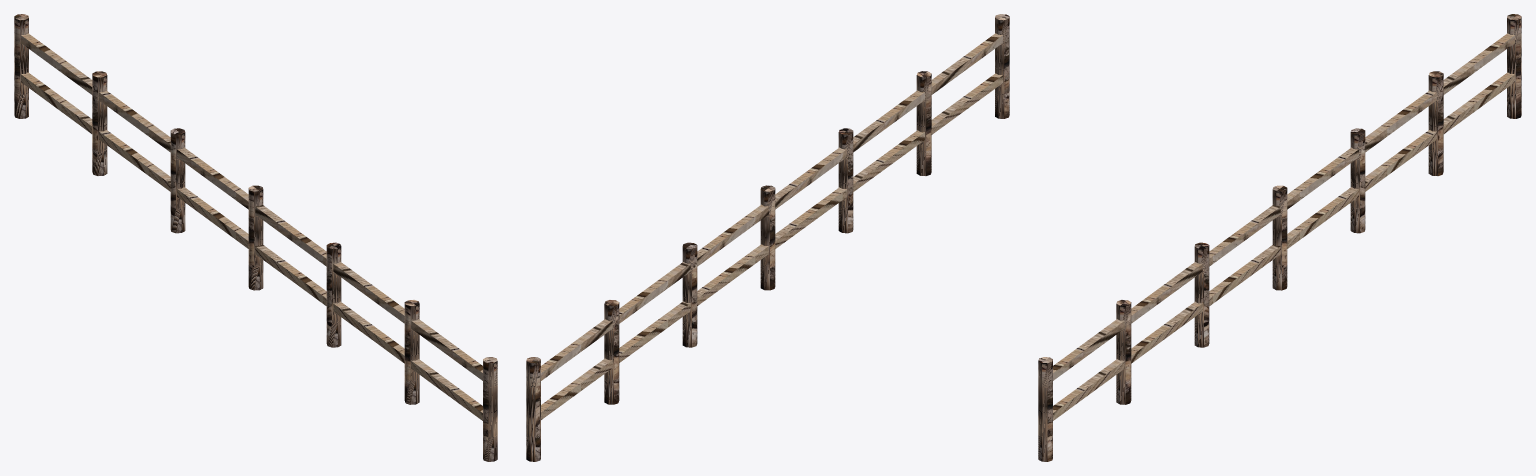
Rendered from valla.glb.
3 views of the same model, side by side, from view 1: azimuth 30°, elevation 25°; view 2: azimuth 150°, elevation 25°; view 3: azimuth 330°, elevation 25° (orthographic).
Visible parts, largest first — view 1: pieza; view 2: pieza; view 3: pieza.
Boxes of the visible parts, x1=… form: pieza: x1=14, y1=14, x2=497, y2=461; pieza: x1=526, y1=14, x2=1009, y2=461; pieza: x1=1038, y1=14, x2=1521, y2=461.
Bounding box in the file's own units: 0.1396 × 1 × 8.74.
Materials: 2 (2 with a texture image).
